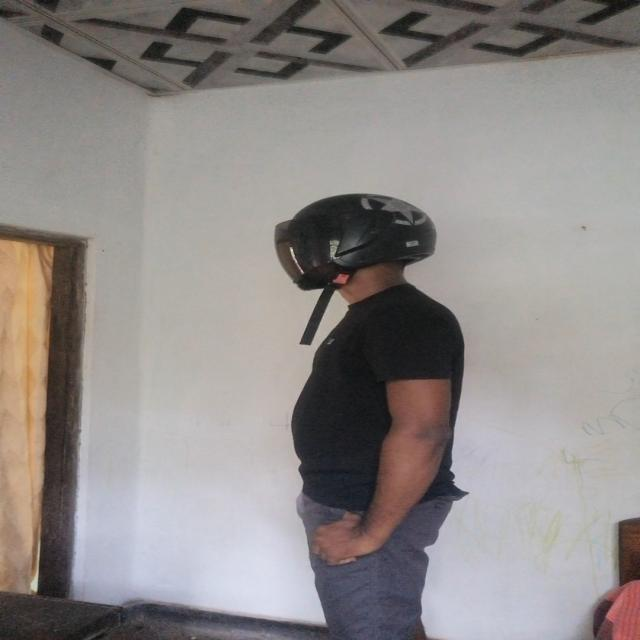Helmet_Wearer: (256, 187, 448, 315)
Person: (252, 188, 492, 634)
